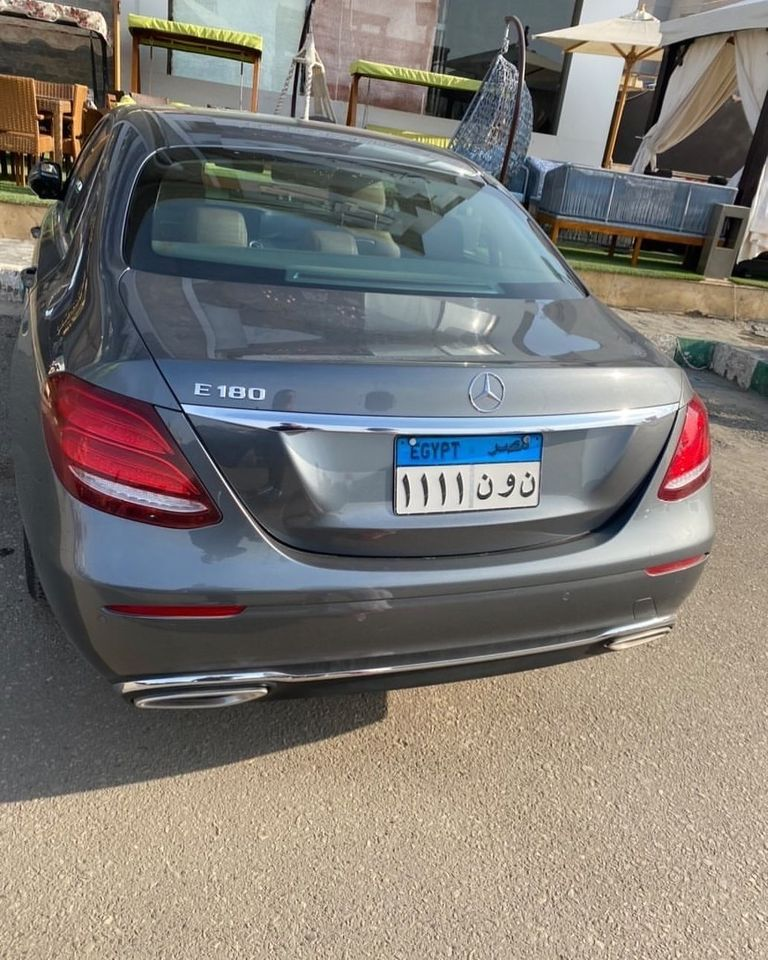carpl: (391, 444, 543, 511)
